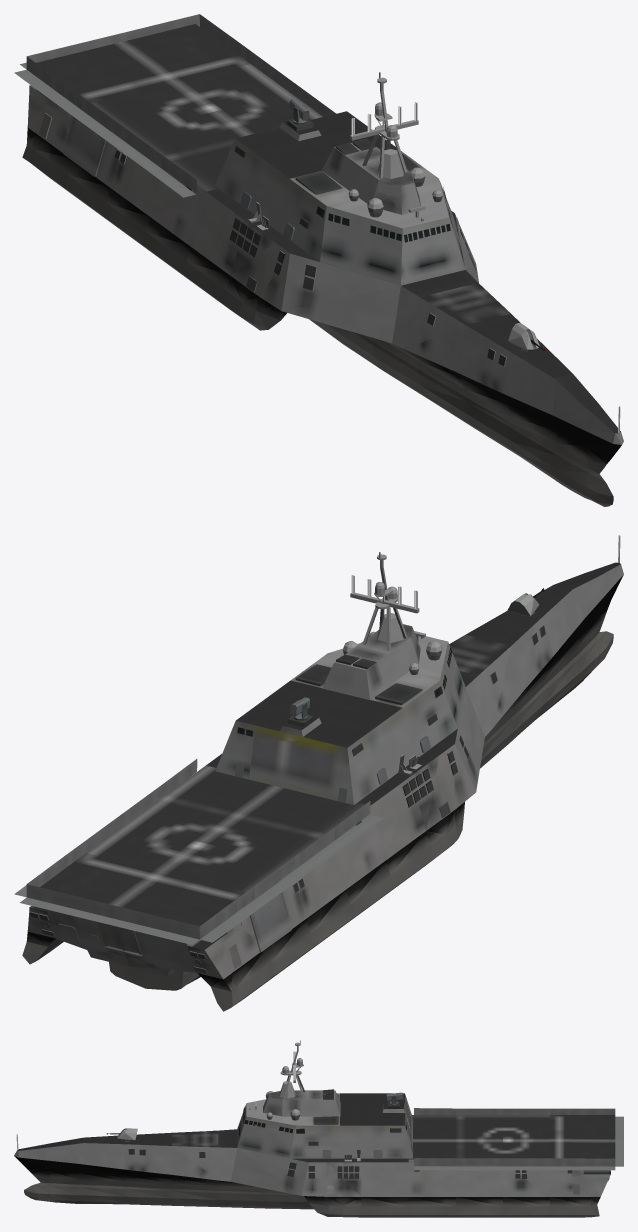
Rendered from LCS-2.fbx.
3 views of the same model, one above another, from view 1: azimuth 30°, elevation 25°; view 2: azimuth 150°, elevation 25°; view 3: azimuth 270°, elevation 25° (orthographic). The views are drawn at different scales.
Parts seen in each view (by area): view 1: LCS-2; view 2: LCS-2; view 3: LCS-2.
Part boxes in pixels (<box>): LCS-2: <box>14,14,623,506</box>; LCS-2: <box>14,535,623,1011</box>; LCS-2: <box>14,1040,623,1217</box>.
Bounding box in the file's own units: 30.36 × 38.23 × 129.
1 material, 1 textured.
